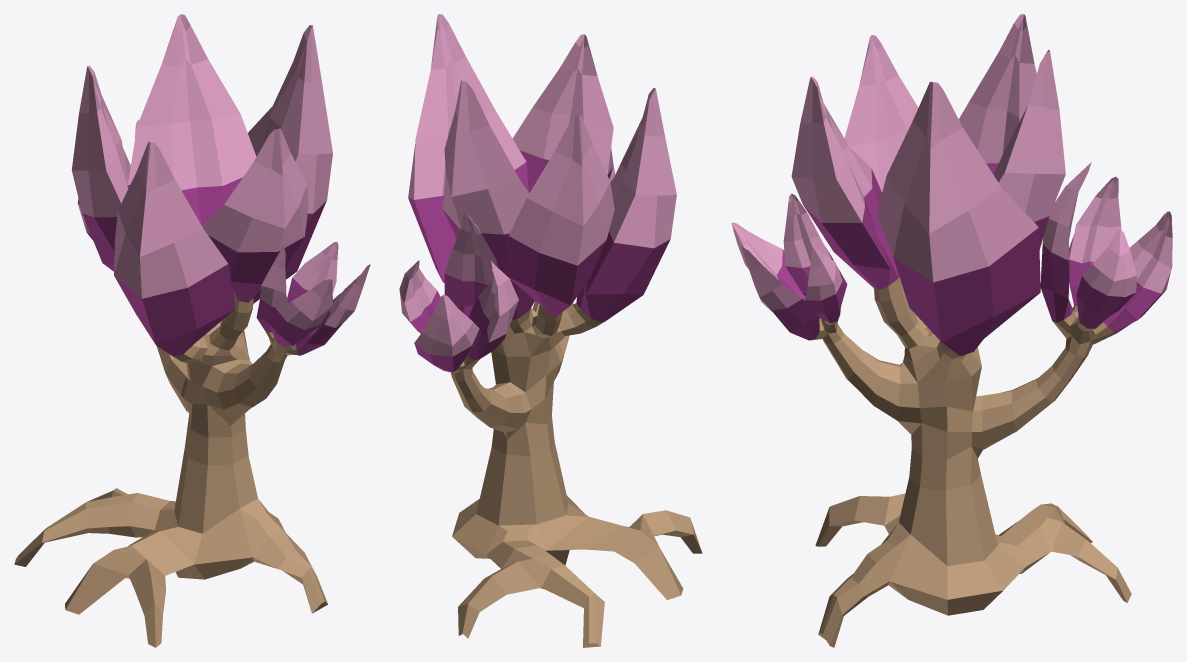
Rendered from Tree_14_Var_01.fbx.
3 views of the same model, side by side, from view 1: azimuth 30°, elevation 25°; view 2: azimuth 150°, elevation 25°; view 3: azimuth 270°, elevation 25° (orthographic). The views are drawn at different scales.
Parts seen in each view (by area): view 1: Tree_14_Var_01; view 2: Tree_14_Var_01; view 3: Tree_14_Var_01.
Part boxes in pixels (x1,y1,x2,y2): Tree_14_Var_01: (14,14,370,647); Tree_14_Var_01: (399,14,702,647); Tree_14_Var_01: (731,14,1172,647).
Size of the model in its own units: 5.19 by 7.59 by 3.89.
